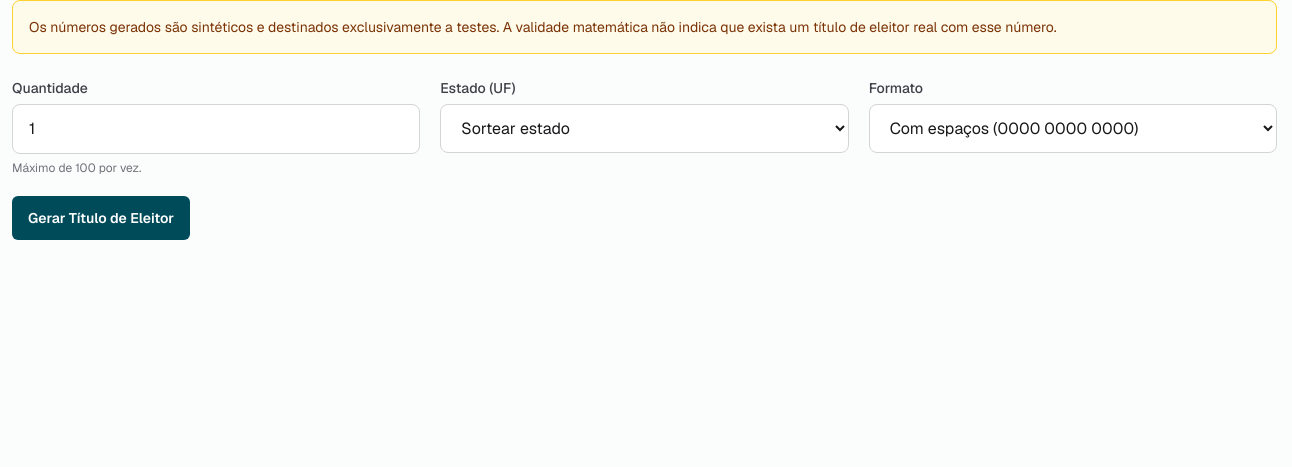
Scenario: VoterIdGeneratorTool › gera um único título válido ao clicar em 'Gerar Título de Eleitor'
Click the button "Gerar Título de Eleitor".
click(101, 218)  # box [12,196,190,240]
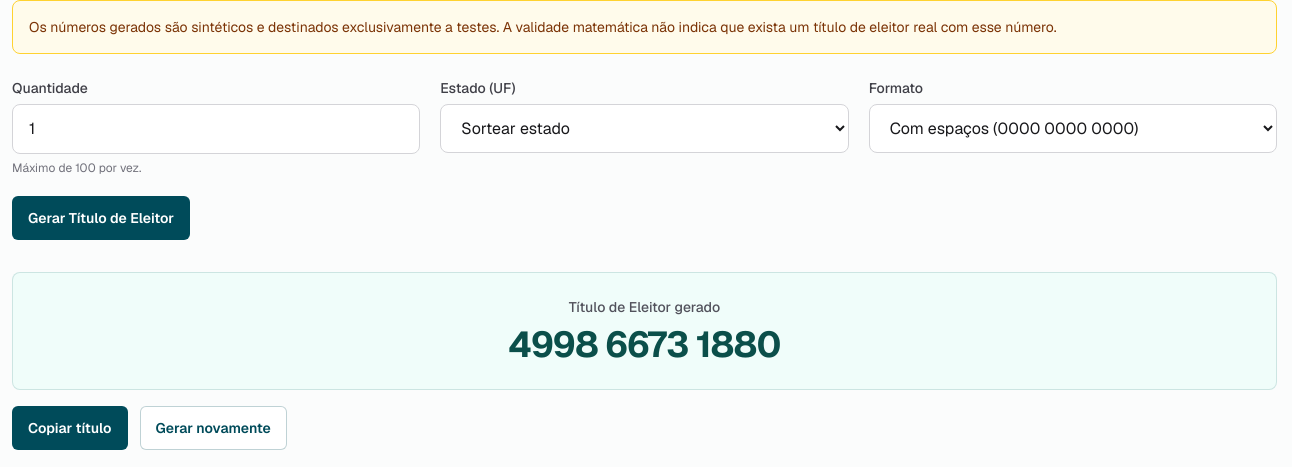
Now the text "4998 6673 1880" is shown, box [509,321,780,368]
